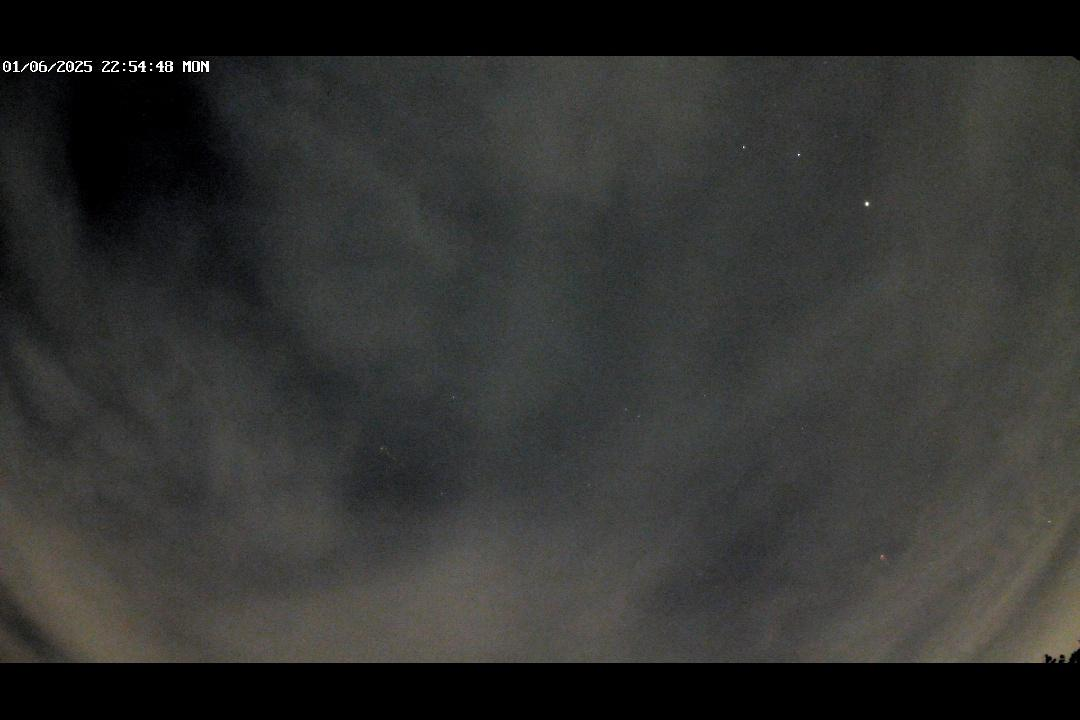Plane: (372, 435, 429, 480), (872, 547, 904, 579)
